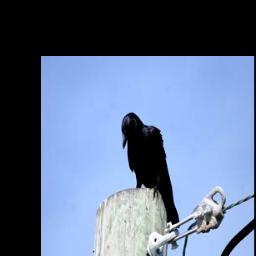Crow: (120, 112, 179, 230)
